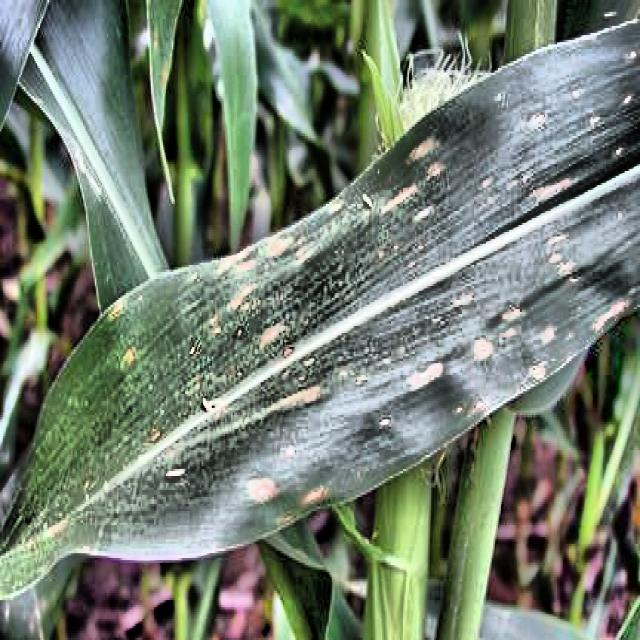gray_spot: (0, 19, 639, 596)
